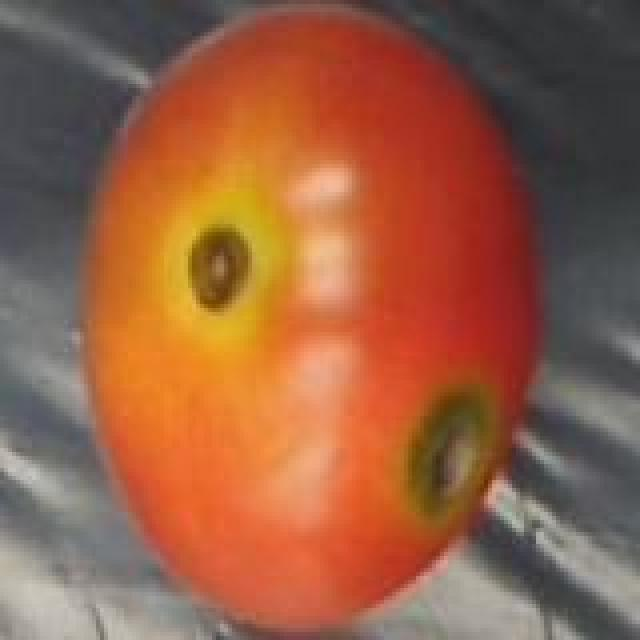overripe tomato: (64, 0, 552, 640)
